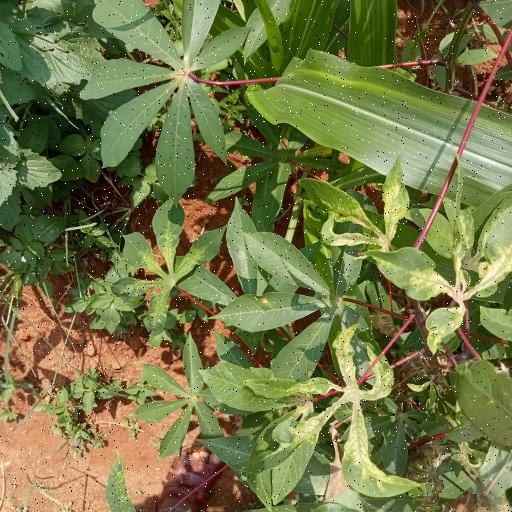Cassava_Healthy: (82, 4, 248, 194), (220, 214, 366, 378), (118, 207, 228, 333)
